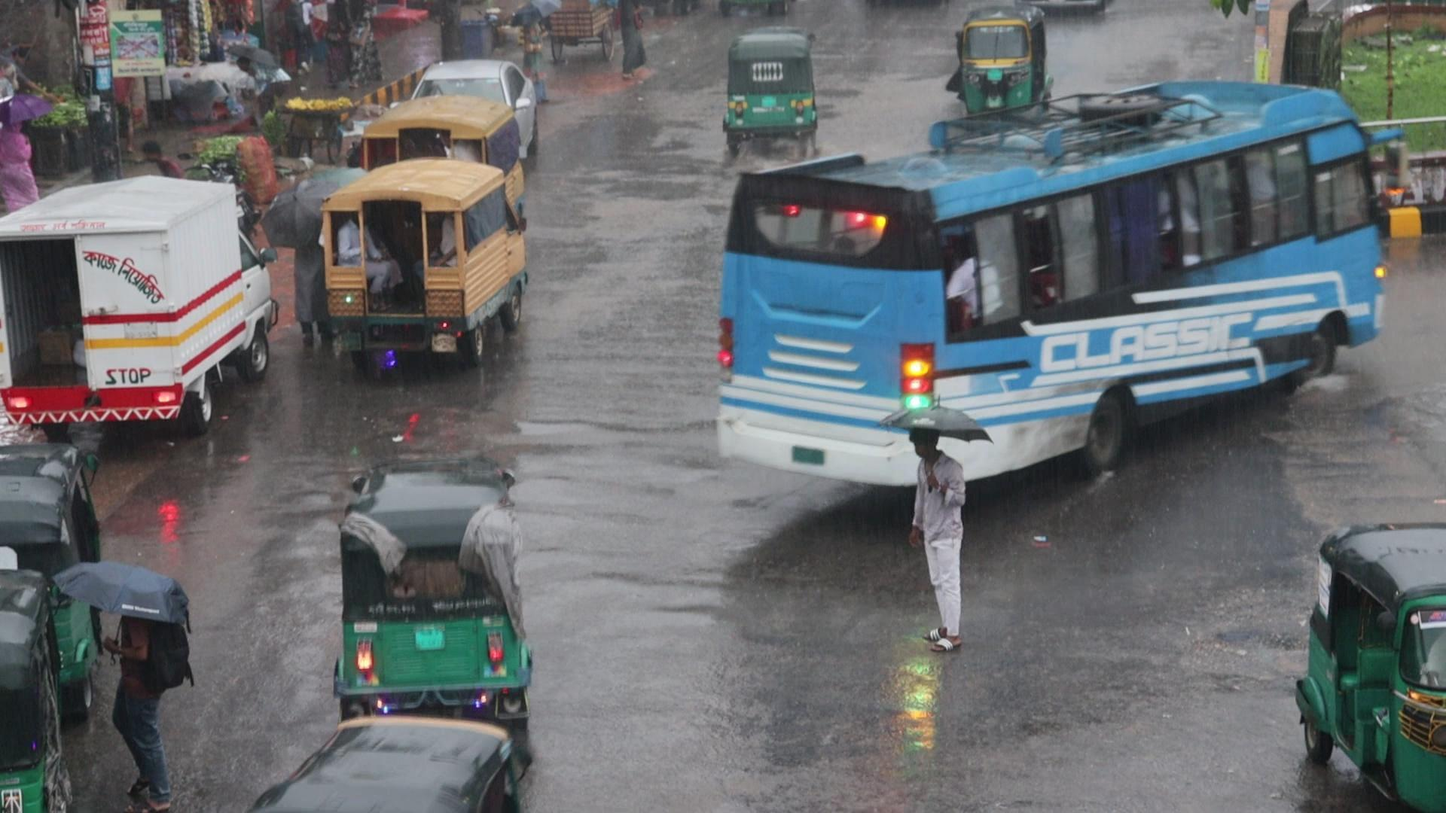Bus: (714, 79, 1391, 474)
Truck: (317, 158, 528, 369)
